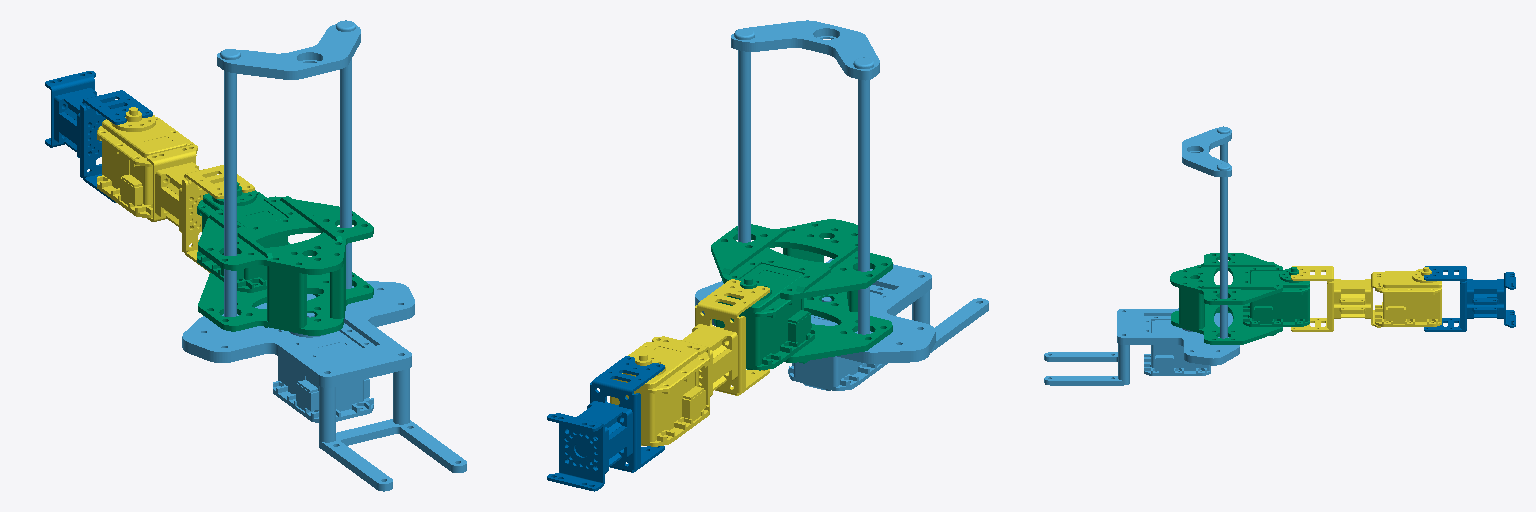
URDF robot description (scara):
<?xml version = "1.0"?>
<robot name = "scara" xmlns:xacro="http://www.ros.org/wiki/xacro">

  <!-- Used for fixing robot to 'base_link' -->
  <link name="world"/>

  <!-- Base Link -->
  <link name = "base_link">
    <visual>
      <origin xyz="0 0 0" rpy="0 0 0"/>
      <geometry>
        <mesh filename="package://scara_description/meshes/chain_base_link.stl" scale="0.001 0.001 0.001"/>
      </geometry>
      <material name="grey"/>
    </visual>

    <collision>
      <origin xyz="0 0 0" rpy="0 0 0"/>
      <geometry>
        <mesh filename="package://scara_description/meshes/chain_base_link.stl" scale="0.001 0.001 0.001"/>
      </geometry>
    </collision>
  </link>


  <link name = "link1">
    <visual>
      <origin xyz="0 0 0" rpy="0 0 0"/>
      <geometry>
        <mesh filename="package://scara_description/meshes/chain_link0.stl" scale="0.001 0.001 0.001"/>
      </geometry>
      <material name="grey"/>
    </visual>

    <collision>
      <origin xyz="0 0 0" rpy="0 0 0"/>
      <geometry>
        <mesh filename="package://scara_description/meshes/chain_link0.stl" scale="0.001 0.001 0.001"/>
      </geometry>
    </collision>
  </link>

  <link name = "link2">
    <visual>
      <origin xyz="0 0 0" rpy="0 0 0"/>
      <geometry>
        <mesh filename="package://scara_description/meshes/chain_link1.stl" scale="0.001 0.001 0.001"/>
      </geometry>
      <material name="grey"/>
    </visual>

    <collision>
      <origin xyz="0 0 0" rpy="0 0 0"/>
      <geometry>
        <mesh filename="package://scara_description/meshes/chain_link1.stl" scale="0.001 0.001 0.001"/>
      </geometry>
    </collision>
  </link>

  <link name = "link3">
    <visual>
      <origin xyz="0 0 0" rpy="0 0 0"/>
      <geometry>
        <mesh filename="package://scara_description/meshes/chain_link2.stl" scale="0.001 0.001 0.001"/>
      </geometry>
      <material name="grey"/>
    </visual>

    <collision>
      <origin xyz="0 0 0" rpy="0 0 0"/>
      <geometry>
        <mesh filename="package://scara_description/meshes/chain_link2.stl" scale="0.001 0.001 0.001"/>
      </geometry>
    </collision>
  </link>

  <link name="tool0"/>


  <joint name="base2world" type="fixed">
    <parent link="world"/>
    <child link="base_link"/>
  </joint>

  <joint name="joint1" type="prismatic">
    <parent link="base_link"/>
    <child link="link1"/>
    <origin xyz="0.0 0.0 0.020" rpy="0 0 0"/>
    <axis xyz="0 0 1"/>
    <limit velocity="4.8" effort="1" lower="-0.1" upper="0.1" />
  </joint>

  <joint name="joint2" type="revolute">
    <parent link="link1"/>
    <child link="link2"/>
    <origin xyz="0.0 0.0743 0.0" rpy="0 0 0.0"/>
    <axis xyz="0 0 1"/>
    <limit velocity="4.8" effort="1" lower="-0.010" upper="0.019" />
  </joint>
  <joint name="joint3" type="revolute">
    <parent link="link2"/>
    <child link="link3"/>
    <origin xyz="0.0 0.1 0.0" rpy="0 0 0.0"/>
    <axis xyz="0 0 1"/>
    <limit velocity="4.8" effort="1" lower="-0.010" upper="0.019" />
  </joint>

  <joint name="tool02link3" type="fixed">
      <origin rpy="0 0 0" xyz="0 0.1 0"/>
      <parent link="link3"/>
      <child link="tool0"/>
      <axis xyz="0 0 0"/>
  </joint>

</robot>

--- What the picture shows (computed from the rendered views, not written in the file) ---
Views: 3 orthographic renders of the robot side by side, from view 1: azimuth 30°, elevation 25°; view 2: azimuth 150°, elevation 25°; view 3: azimuth 270°, elevation 25°.
Robot: scara — 6 links, 5 joints (2 revolute, 1 prismatic, 2 fixed); root link world; default pose: every joint at zero.
Visible links, largest first — view 1: base_link, link1, link2, link3; view 2: base_link, link1, link2, link3; view 3: base_link, link1, link2, link3.
Link boxes in pixels (x1=…): base_link: x1=182, y1=20, x2=466, y2=491; link1: x1=197, y1=182, x2=373, y2=335; link2: x1=97, y1=107, x2=254, y2=272; link3: x1=45, y1=71, x2=152, y2=202; base_link: x1=695, y1=20, x2=988, y2=390; link1: x1=711, y1=219, x2=892, y2=370; link2: x1=610, y1=279, x2=769, y2=446; link3: x1=547, y1=356, x2=664, y2=491; base_link: x1=1044, y1=126, x2=1239, y2=385; link1: x1=1170, y1=253, x2=1309, y2=344; link2: x1=1291, y1=266, x2=1441, y2=331; link3: x1=1424, y1=266, x2=1515, y2=331.
Size in the robot's own frame: 0.1259 by 0.3544 by 0.1863 metres.
4 mesh visuals loaded from 4 distinct referenced files (4 binary STL).